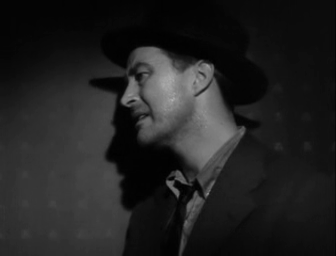face: (119, 48, 173, 145)
mcu: (1, 1, 336, 256)
person: (102, 1, 336, 256)
